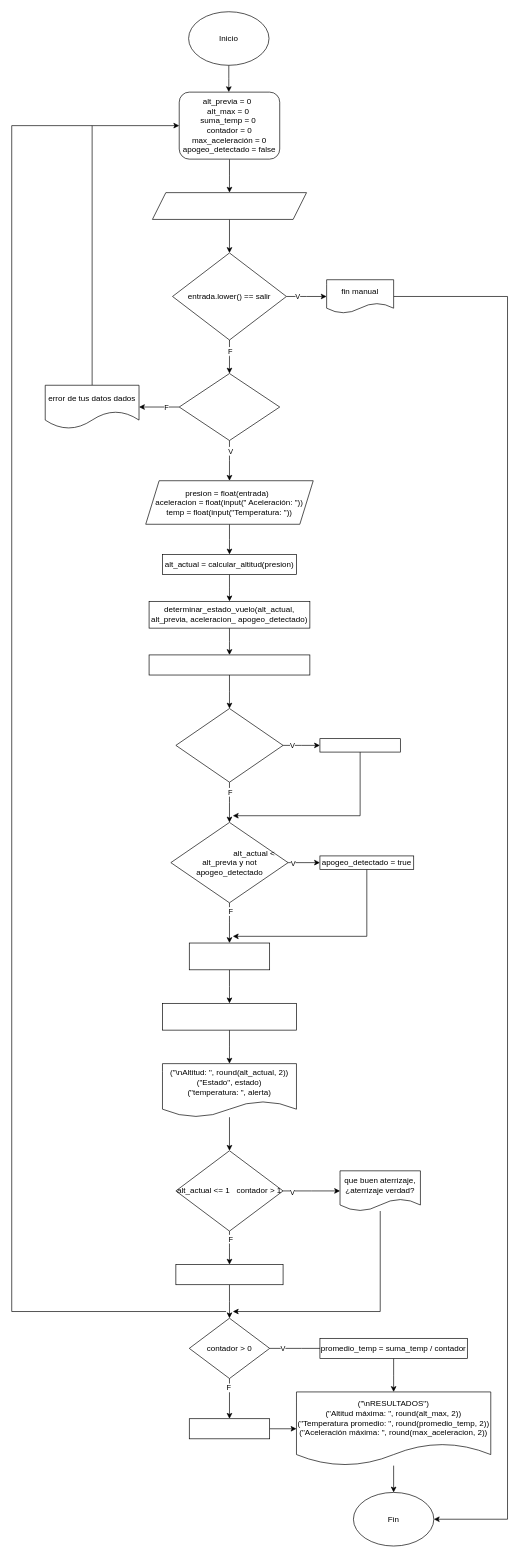
Image size: 525x1558. Some labels were removed from this diagram. The shapes that lost their labels are listed below. From the top down, each one's centre as x and y in pixels, then its label:
(x=229, y=205): entrada = input("\n Presion o salir: ")
(x=229, y=407): es un número
(x=229, y=664): alerta = evaluar_alerta_temperatura(temp)
(x=229, y=745): alt_actual > alt_max
(x=359, y=745): alt_max = alt_actual
(x=229, y=956): suma_temp += temp contador += 1
(x=229, y=1016): if aceleracion > max_aceleracion: max_aceleracion = aceleracion
(x=229, y=1274): alt_previa = alt_actual
(x=229, y=1428): promedio_temp = 0
